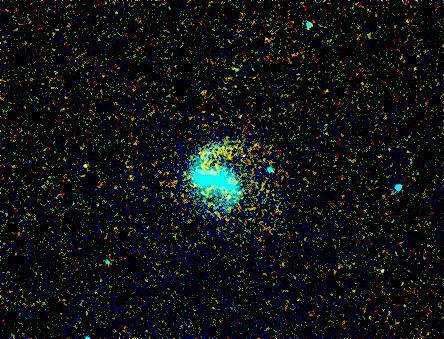star: (65, 151, 95, 181)
